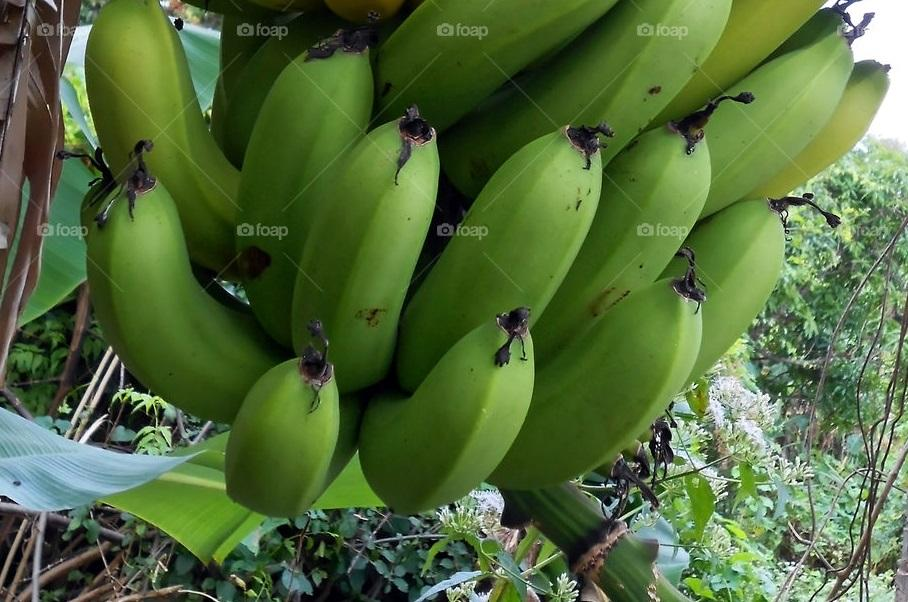Banana Unripe: (58, 0, 908, 531)
